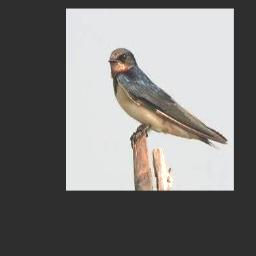Swallow: (109, 49, 228, 147)
